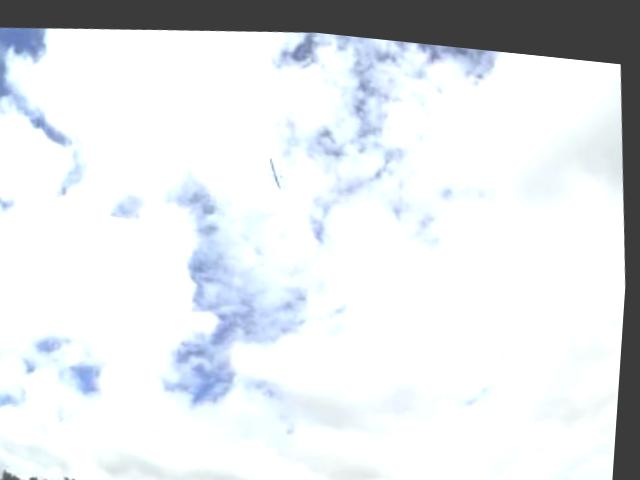uav: (257, 143, 295, 190)
